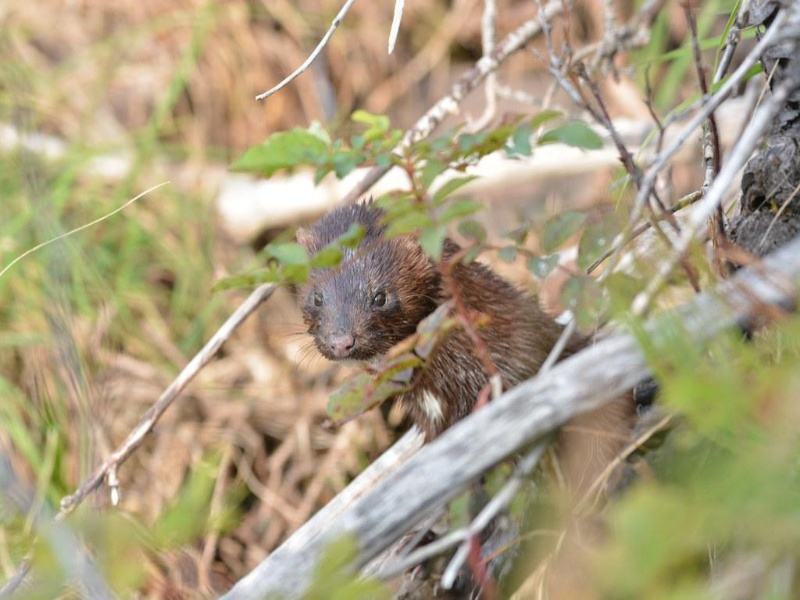minkish: (299, 201, 634, 553)
